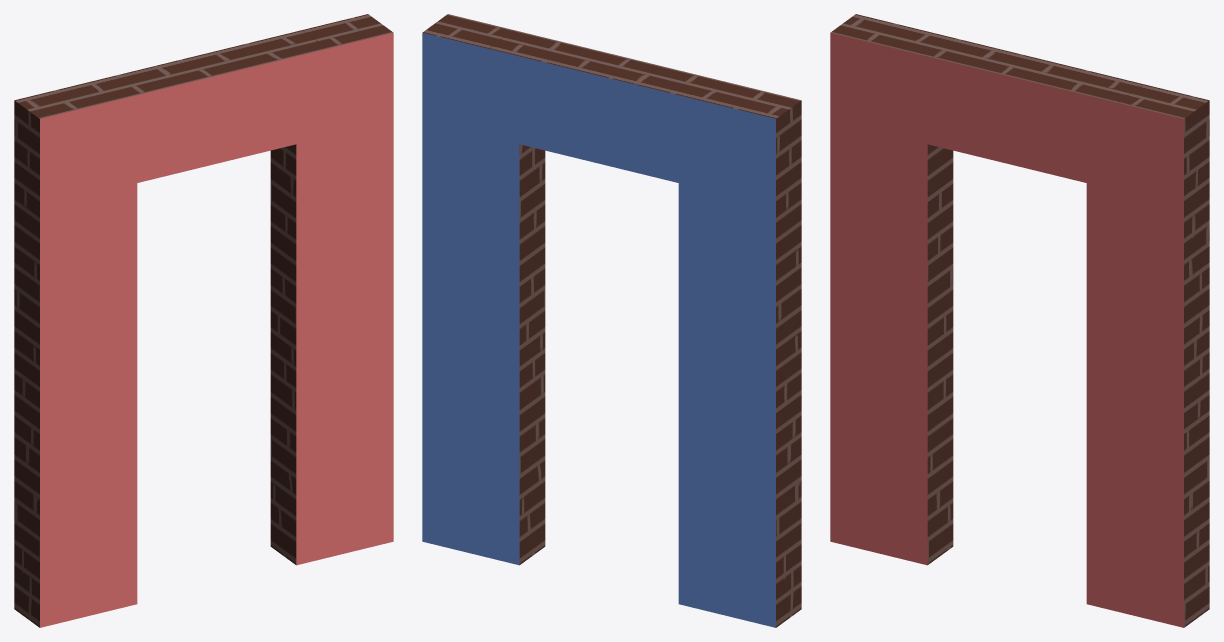
File: wall3_4x5.5_door.FBX
The picture shows the model from 3 angles, left to right: view 1: azimuth 30°, elevation 25°; view 2: azimuth 150°, elevation 25°; view 3: azimuth 330°, elevation 25°; orthographic projection.
Visible parts, largest first — view 1: wall3_4x5.5_door; view 2: wall3_4x5.5_door; view 3: wall3_4x5.5_door.
Part boxes in pixels (bbox=[...]): wall3_4x5.5_door: bbox=[14, 14, 393, 627]; wall3_4x5.5_door: bbox=[422, 14, 801, 627]; wall3_4x5.5_door: bbox=[830, 14, 1209, 627].
Size of the model in its own units: 400 by 550 by 50.
Materials: 3 (1 with a texture image).
